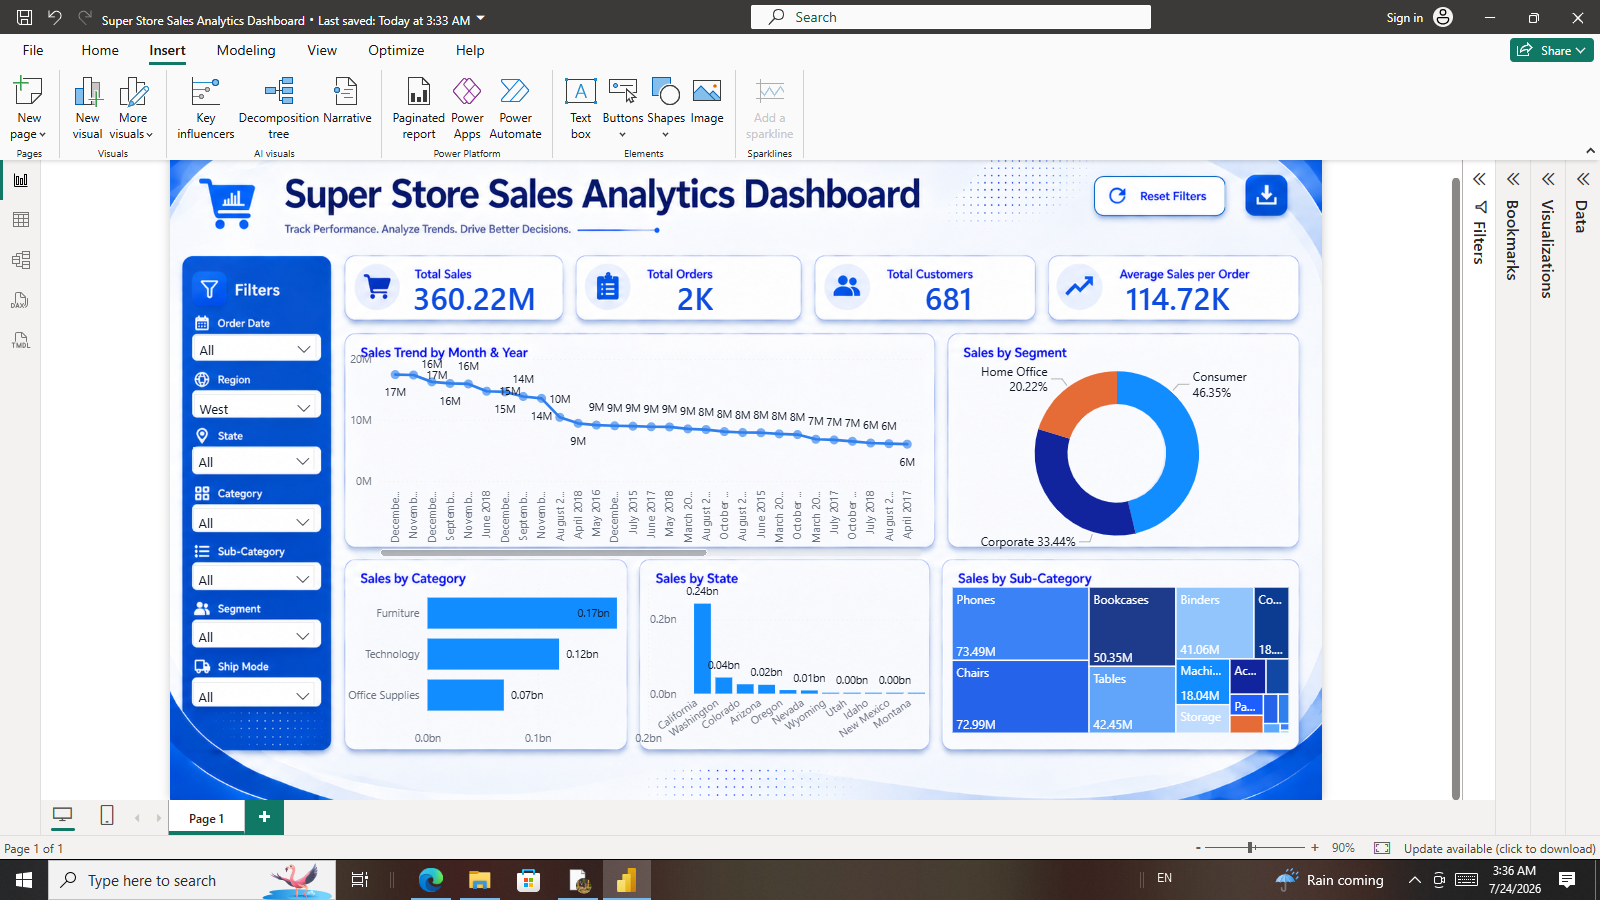

What the dashboard file says about the page in this screenshot:
{"tool":"powerbi","page":{"name":"Page 1","canvas":[1280,720],"ordinal":0},"visuals":[{"type":"cardVisual","fields":{"Data":["Superstore_Sales_Dataset.Total Sales"]},"box":[241.6,119.5,199.2,79.7],"z":0},{"type":"cardVisual","fields":{"Data":["Superstore_Sales_Dataset.Total Orders"]},"box":[534.6,119.5,164.5,79.7],"z":1000},{"type":"cardVisual","fields":{"Data":["Superstore_Sales_Dataset.Total Customers"]},"box":[809.6,119.5,164.5,79.7],"z":2000},{"type":"cardVisual","fields":{"Data":["Superstore_Sales_Dataset.Average Sales"]},"box":[1033.3,119.5,194.1,79.7],"z":3000},{"type":"lineChart","fields":{"Category":["Superstore_Sales_Dataset.Month & Year Order"],"Y":["Sum(Superstore_Sales_Dataset.Sales)"]},"box":[190.2,210.8,655.4,248],"z":4000},{"type":"donutChart","fields":{"Y":["Sum(Superstore_Sales_Dataset.Sales)"],"Category":["Superstore_Sales_Dataset.Segment"]},"box":[876.5,196.6,350.8,276.3],"z":5000},{"type":"clusteredBarChart","fields":{"Category":["Superstore_Sales_Dataset.Category"],"Y":["Sum(Superstore_Sales_Dataset.Sales)"]},"box":[181.2,458.8,383,215.9],"z":6000},{"type":"clusteredColumnChart","fields":{"Category":["Superstore_Sales_Dataset.State"],"Y":["Sum(Superstore_Sales_Dataset.Sales)"]},"box":[517.9,458.8,340.6,215.9],"z":7000},{"type":"treemap","fields":{"Group":["Superstore_Sales_Dataset.Sub-Category"],"Values":["Sum(Superstore_Sales_Dataset.Sales)"]},"box":[858.5,472.9,394.5,182.5],"z":8000},{"type":"slicer","fields":{"Values":["Superstore_Sales_Dataset.Order Date"]},"box":[16.1,192.8,155.6,35],"z":9000},{"type":"slicer","fields":{"Values":["Superstore_Sales_Dataset.Region"]},"box":[16.2,259.2,155.4,34.6],"z":10000},{"type":"slicer","fields":{"Values":["Superstore_Sales_Dataset.State"]},"box":[16,317.3,155.3,34.7],"z":11000},{"type":"slicer","fields":{"Values":["Superstore_Sales_Dataset.Category"]},"box":[16,385.3,155.3,34.7],"z":12000},{"type":"slicer","fields":{"Values":["Superstore_Sales_Dataset.Sub-Category"]},"box":[16,448.7,155.3,34.7],"z":13000},{"type":"slicer","fields":{"Values":["Superstore_Sales_Dataset.Segment"]},"box":[16,512,155.3,34.7],"z":14000},{"type":"slicer","fields":{"Values":["Superstore_Sales_Dataset.Ship Mode"]},"box":[16,578.7,155.3,34.7],"z":15000},{"type":"shape","box":[1026.9,26.2,146.2,44.6],"z":16000}]}

Visuals, with their boxes on the page's 1280x720 design canvas (x1, y1, x2, y2). These are canvas units, not pixel positions in the 1600x900 screenshot, which may show the page scaled, cropped or inside an application window:
cardVisual - Superstore_Sales_Dataset.Total Sales: locate(242, 120, 441, 199)
cardVisual - Superstore_Sales_Dataset.Total Orders: locate(535, 120, 699, 199)
cardVisual - Superstore_Sales_Dataset.Total Customers: locate(810, 120, 974, 199)
cardVisual - Superstore_Sales_Dataset.Average Sales: locate(1033, 120, 1227, 199)
lineChart - Superstore_Sales_Dataset.Month & Year Order x Sum(Superstore_Sales_Dataset.Sales): locate(190, 211, 846, 459)
donutChart - Sum(Superstore_Sales_Dataset.Sales) x Superstore_Sales_Dataset.Segment: locate(876, 197, 1227, 473)
clusteredBarChart - Superstore_Sales_Dataset.Category x Sum(Superstore_Sales_Dataset.Sales): locate(181, 459, 564, 675)
clusteredColumnChart - Superstore_Sales_Dataset.State x Sum(Superstore_Sales_Dataset.Sales): locate(518, 459, 858, 675)
treemap - Superstore_Sales_Dataset.Sub-Category x Sum(Superstore_Sales_Dataset.Sales): locate(858, 473, 1253, 655)
slicer - Superstore_Sales_Dataset.Order Date: locate(16, 193, 172, 228)
slicer - Superstore_Sales_Dataset.Region: locate(16, 259, 172, 294)
slicer - Superstore_Sales_Dataset.State: locate(16, 317, 171, 352)
slicer - Superstore_Sales_Dataset.Category: locate(16, 385, 171, 420)
slicer - Superstore_Sales_Dataset.Sub-Category: locate(16, 449, 171, 483)
slicer - Superstore_Sales_Dataset.Segment: locate(16, 512, 171, 547)
slicer - Superstore_Sales_Dataset.Ship Mode: locate(16, 579, 171, 613)
shape: locate(1027, 26, 1173, 71)
